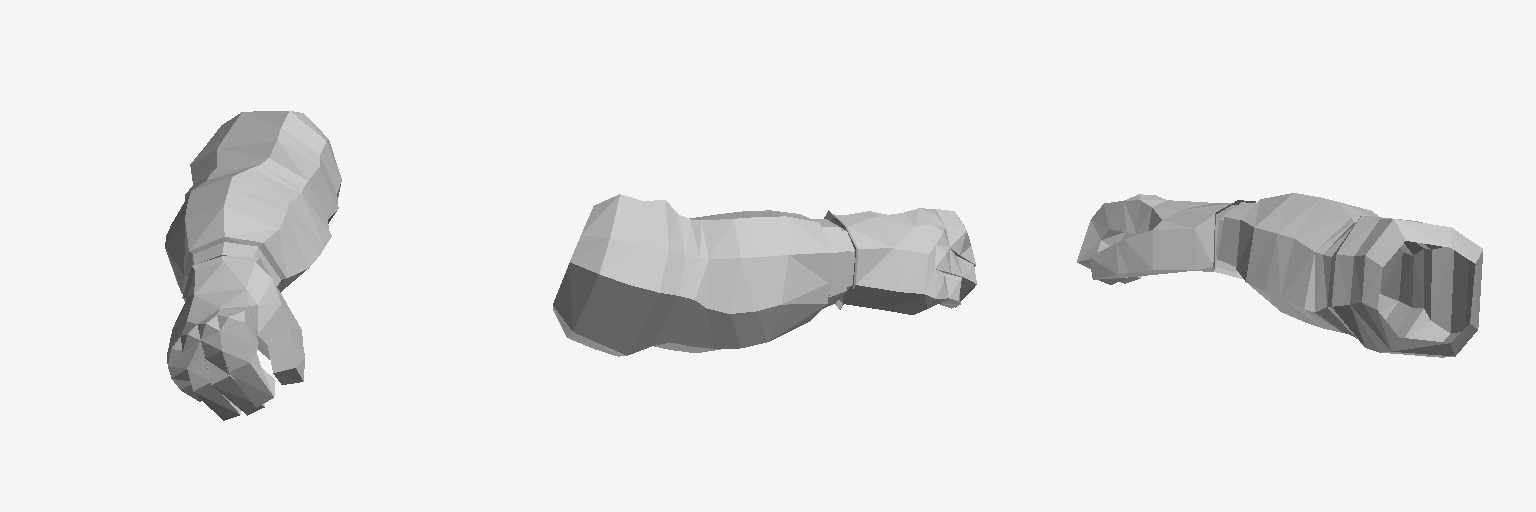
Rendered from brazo der.obj.
3 views of the same model, side by side, from view 1: azimuth 30°, elevation 25°; view 2: azimuth 150°, elevation 25°; view 3: azimuth 270°, elevation 25° (orthographic).
Visible parts, largest first — view 1: default002; view 2: default002; view 3: default002.
Part boxes in pixels (x1,y1,x2,y2): default002: (165, 111, 341, 420); default002: (553, 194, 976, 356); default002: (1077, 193, 1482, 357).
Size of the model in its own units: 25.56 by 14.49 by 32.76.